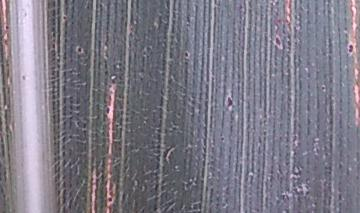tarspot: (270, 24, 285, 52), (224, 87, 235, 113), (346, 39, 357, 57), (73, 44, 86, 57), (105, 193, 114, 207), (183, 48, 192, 62), (319, 82, 329, 94), (104, 104, 112, 118), (49, 42, 59, 52), (219, 132, 226, 145), (60, 13, 69, 23), (2, 23, 11, 32)
